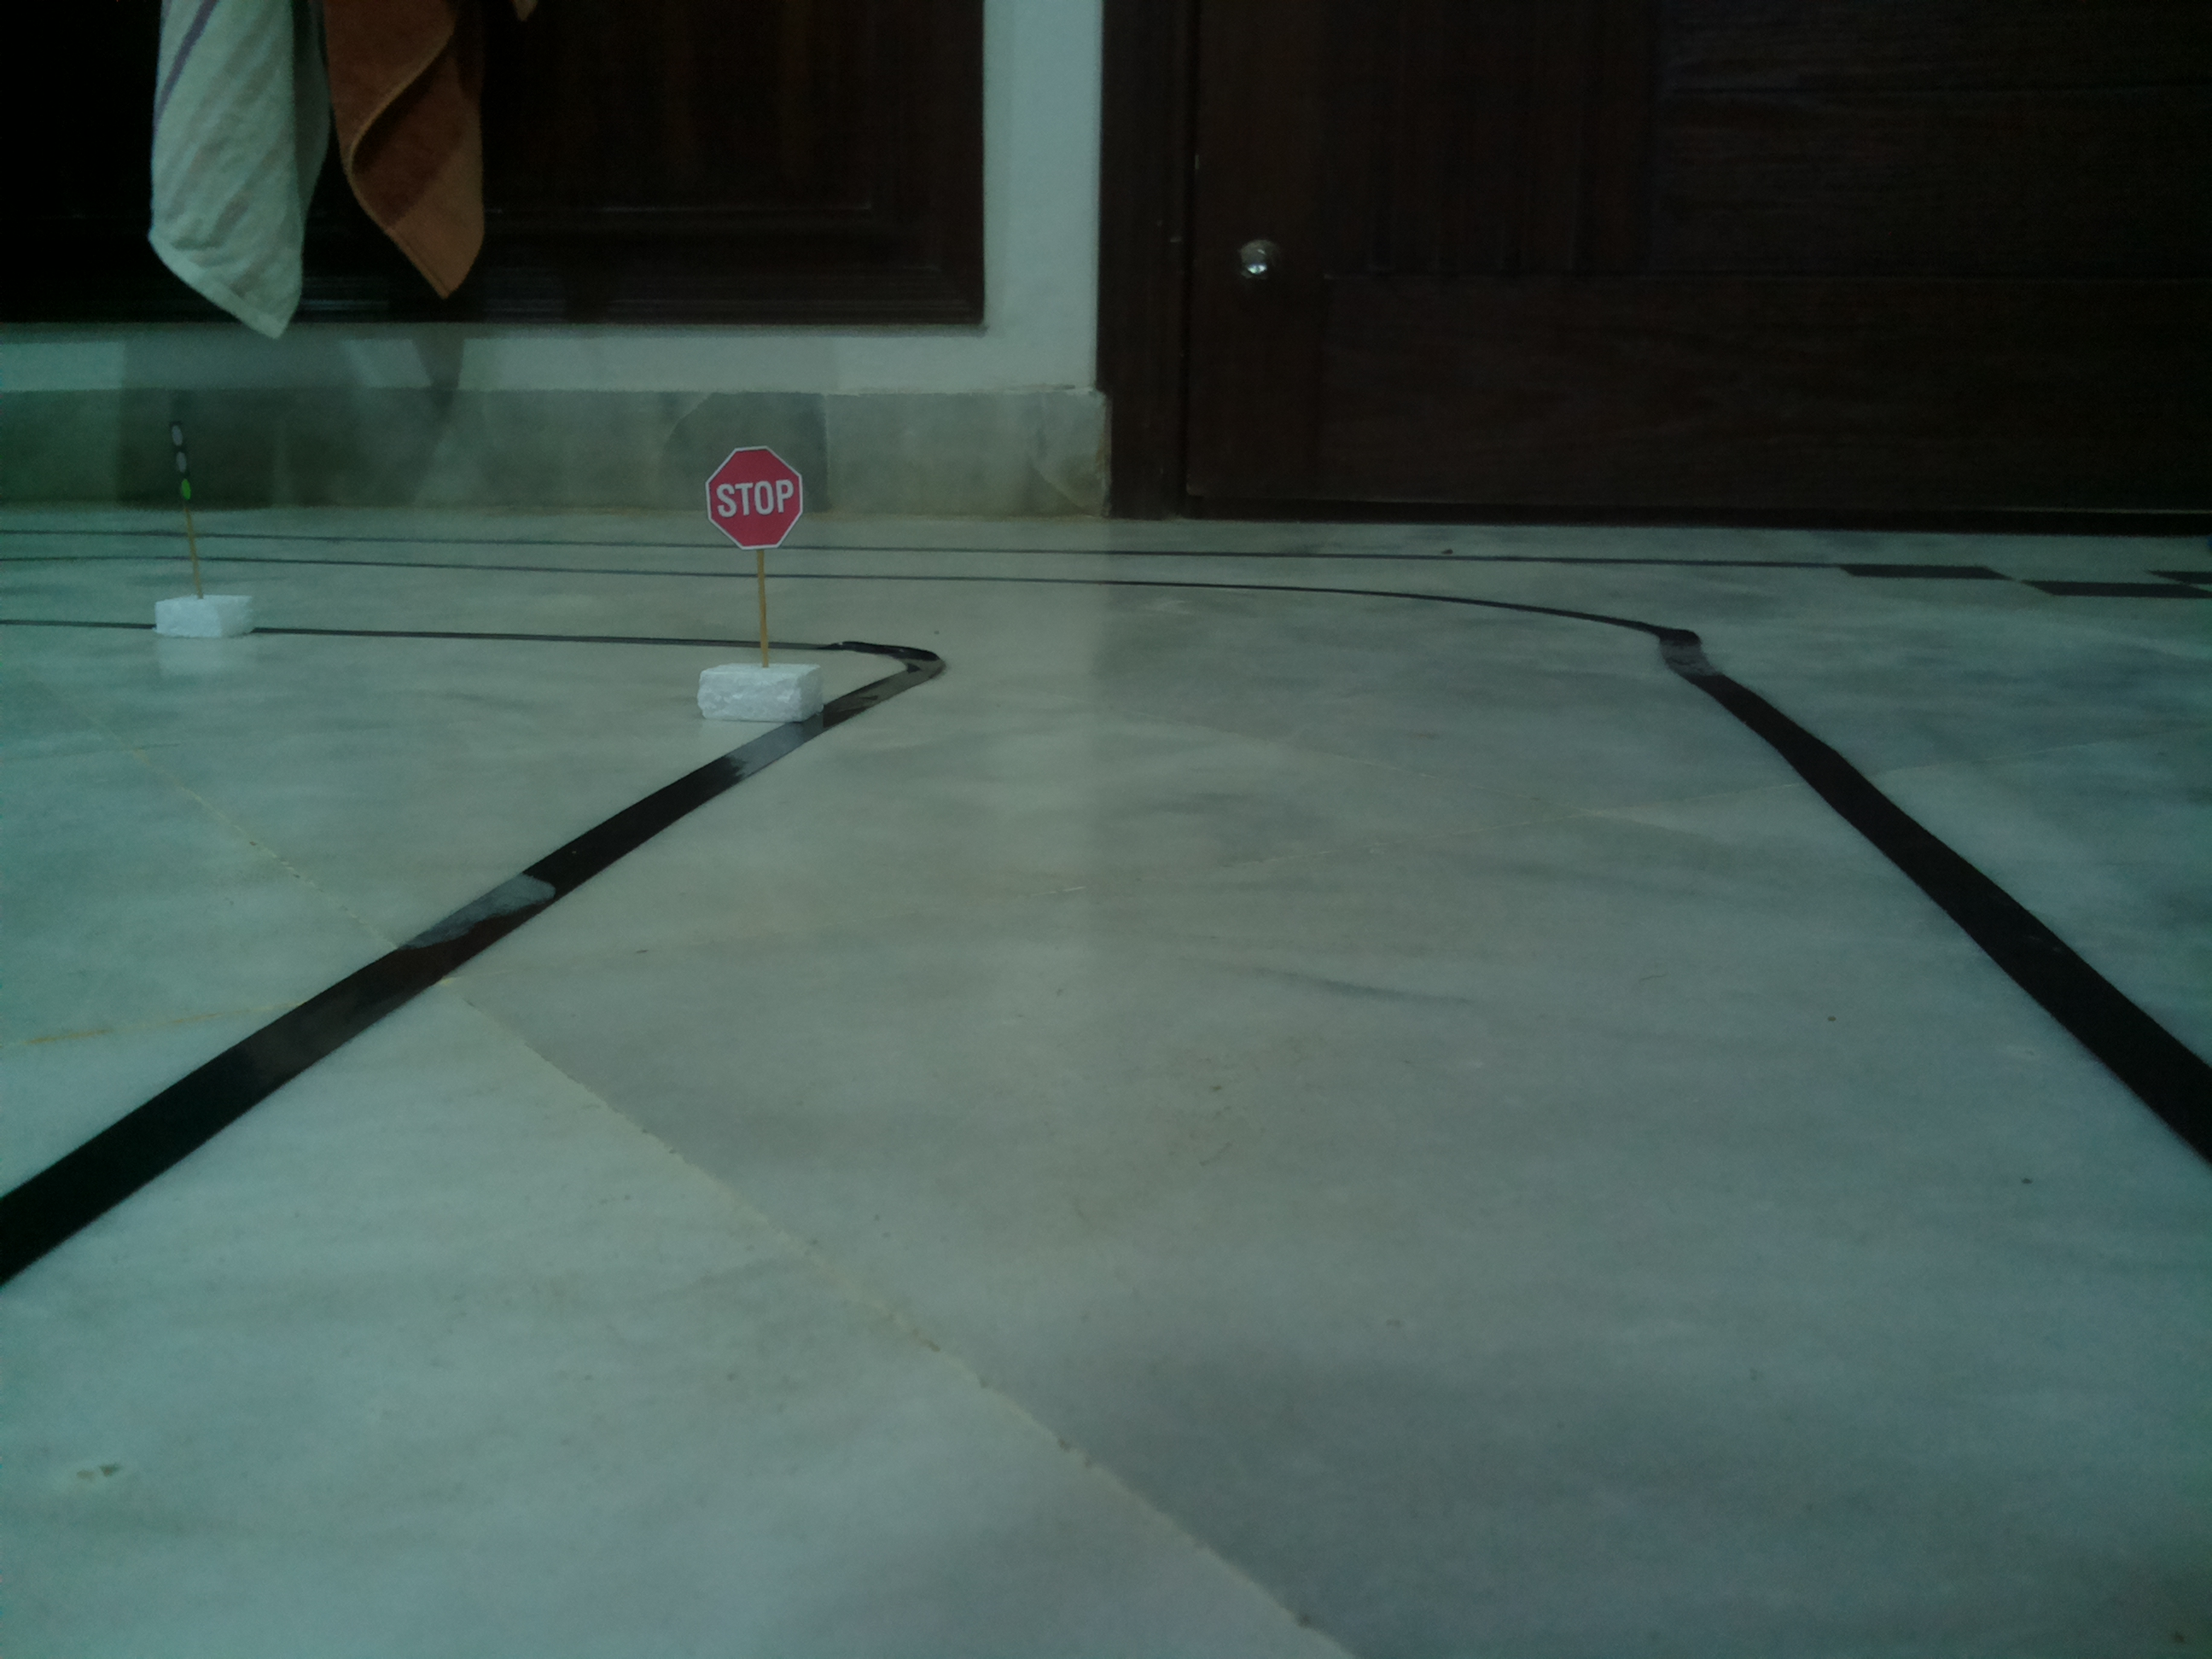Stop sign: (704, 443, 806, 551)
